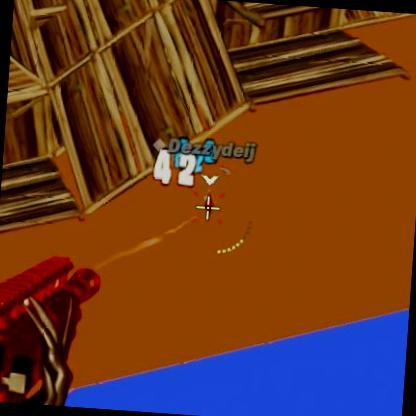person: (202, 190, 214, 216)
